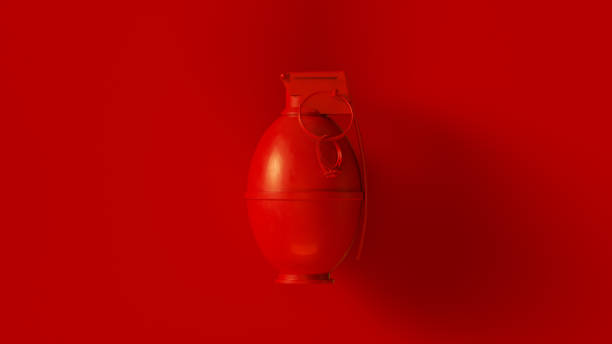e1: (244, 70, 371, 290)
